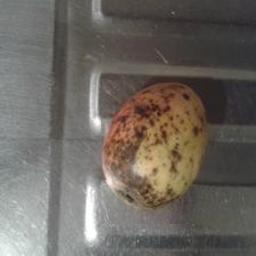Mango Rotten: (102, 62, 214, 225)
